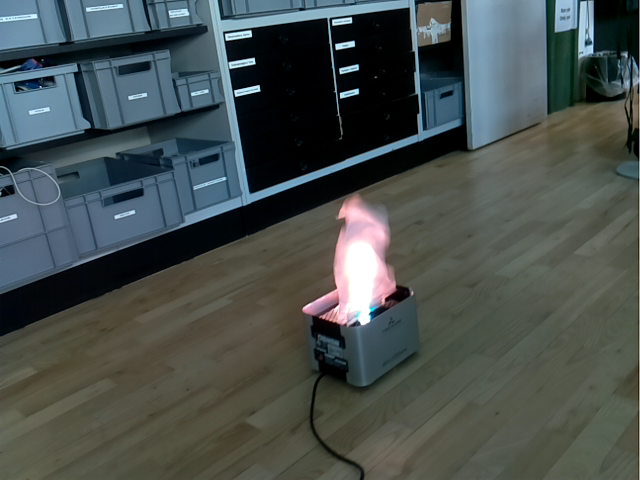fire: (332, 192, 396, 327)
